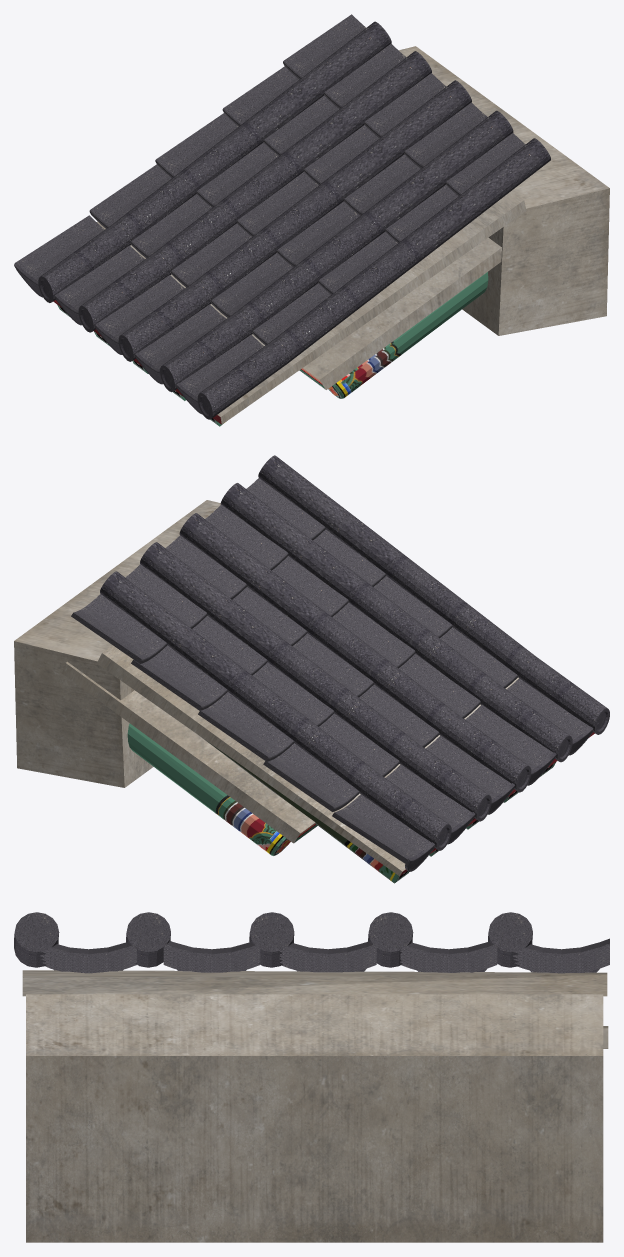
File: SM_Roof_24.fbx
3 views of the same model, one above another, from view 1: azimuth 30°, elevation 25°; view 2: azimuth 150°, elevation 25°; view 3: azimuth 270°, elevation 25° (orthographic). The views are drawn at different scales.
Parts seen in each view (by area): view 1: SM_Roof_24; view 2: SM_Roof_24; view 3: SM_Roof_24.
Part boxes in pixels (x1,y1,x2,y2): SM_Roof_24: [14, 14, 609, 426]; SM_Roof_24: [14, 455, 609, 883]; SM_Roof_24: [14, 912, 609, 1242].
Bounding box in the file's own units: 352 × 304 × 189.
Materials: 4 (4 with a texture image).
